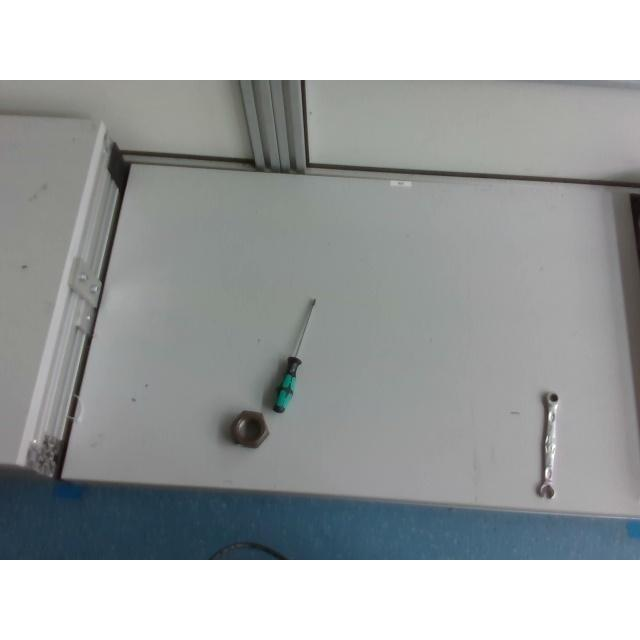M30: (228, 410, 268, 448)
Screwdriver: (273, 297, 315, 411)
Wrench: (538, 392, 560, 498)
